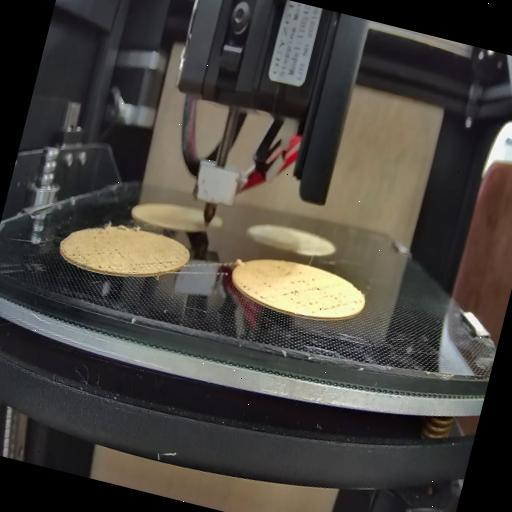under_extrusion: (279, 271, 350, 318), (72, 229, 132, 274), (139, 248, 176, 280), (232, 278, 270, 306)
